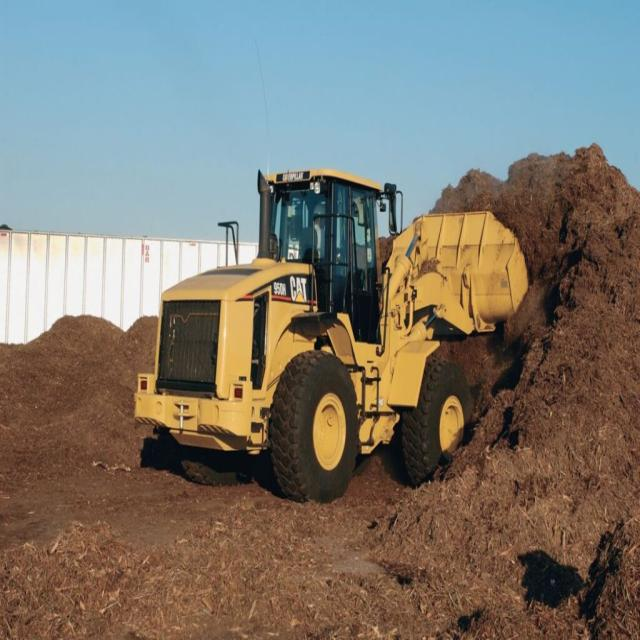buldozerpayloadergrader: (129, 165, 530, 506)
